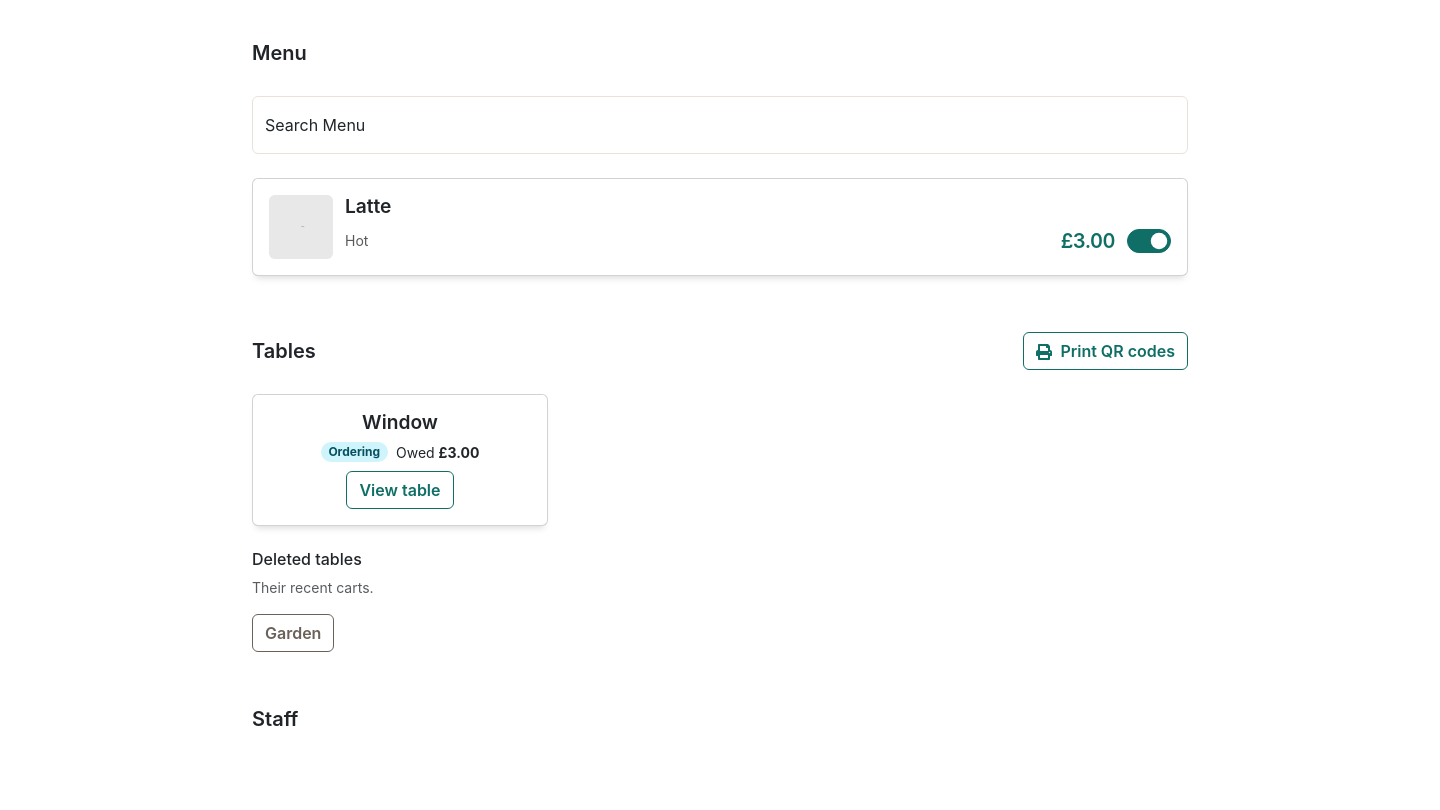
Test: the table sheet › gives the kitchen the sheet to read: the items, selections, payments and log, nothing to press
This screenshot has width=1440, height=810.
(page scrolled)
Click the button with aria-label "View table Window" at (400,490), box top-left (346, 471), bottom-right (454, 509)
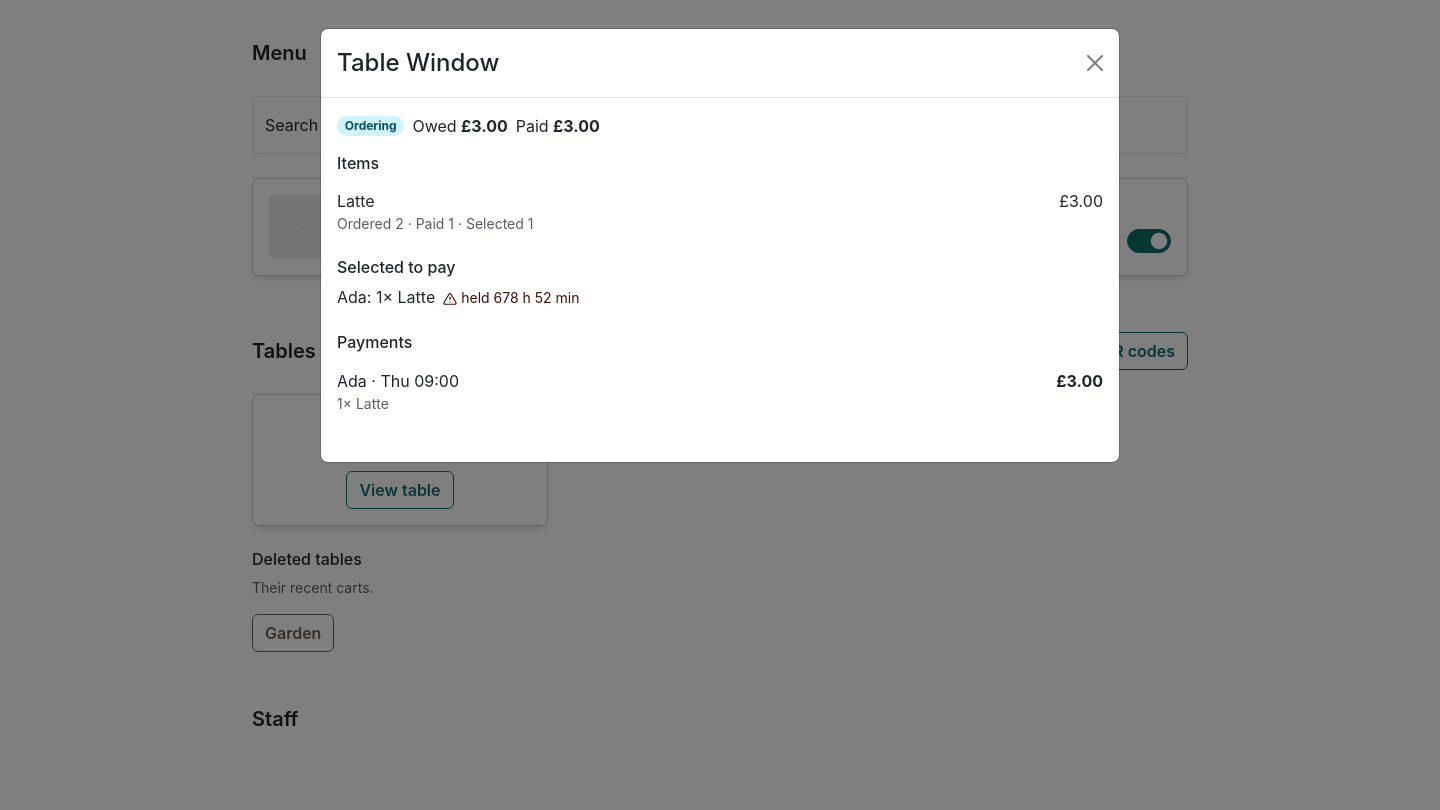
Check: the text "Ada: 1× Latte" is shown, box top-left (337, 285), bottom-right (580, 309)
Check: the 1st text "£3.00" is shown, box top-left (461, 116), bottom-right (508, 136)
